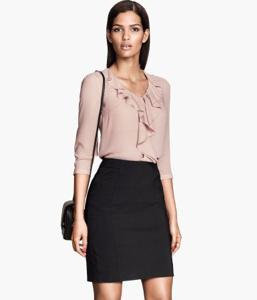F_tailored skirt: (80, 151, 180, 287)
